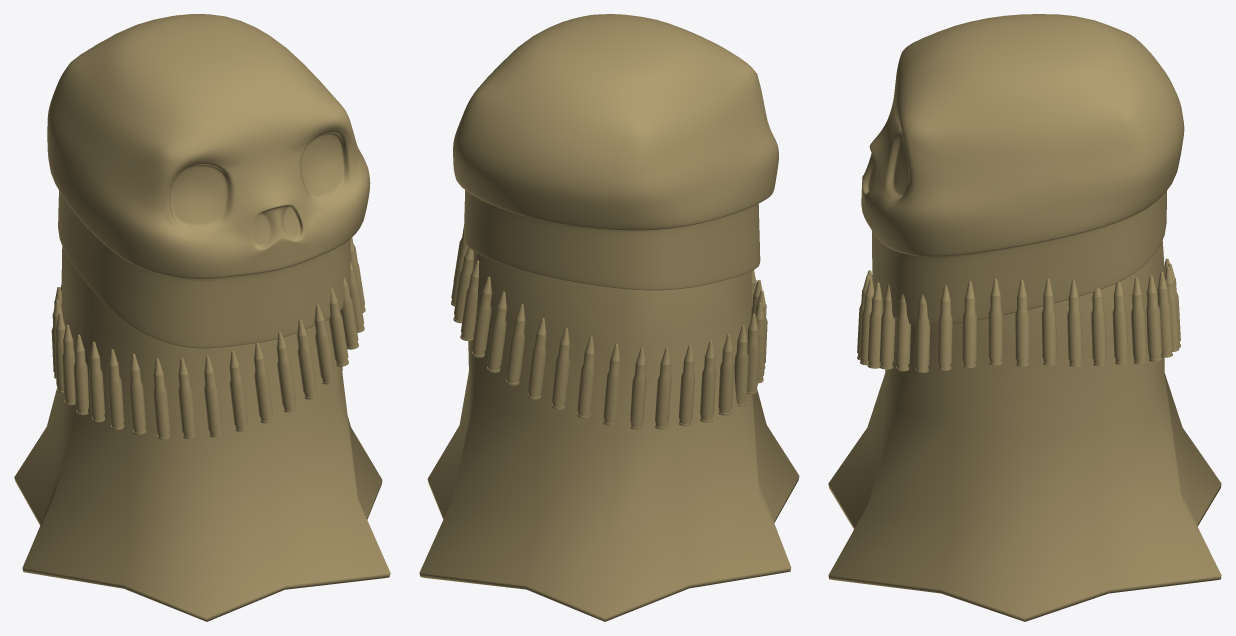
The model's file is player_haunted02.fbx.
The picture shows the model from 3 angles, left to right: view 1: azimuth 30°, elevation 25°; view 2: azimuth 150°, elevation 25°; view 3: azimuth 270°, elevation 25°; orthographic projection. The views are drawn at different scales.
Parts seen in each view (by area): view 1: polySurface6, Main_Body1, group2; view 2: Main_Body1, polySurface6, group2; view 3: Main_Body1, polySurface6, group2.
Part boxes in pixels (x1,y1,x2,y2): polySurface6: [47, 14, 370, 348]; Main_Body1: [14, 246, 390, 621]; group2: [51, 237, 365, 439]; Main_Body1: [419, 251, 799, 621]; polySurface6: [453, 14, 778, 290]; group2: [451, 227, 767, 429]; Main_Body1: [828, 240, 1221, 621]; polySurface6: [861, 14, 1184, 325]; group2: [857, 258, 1180, 372].
Size of the model in its own units: 105 by 137 by 97.21.
